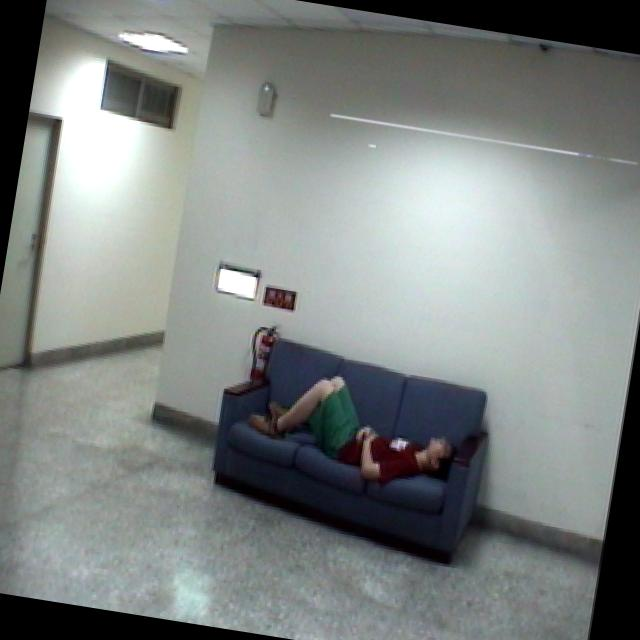lie: (234, 362, 469, 496)
